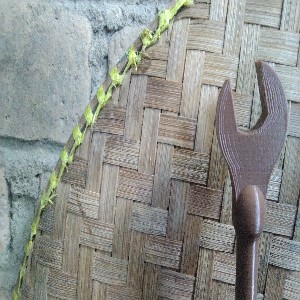spanner: (215, 60, 288, 300)
